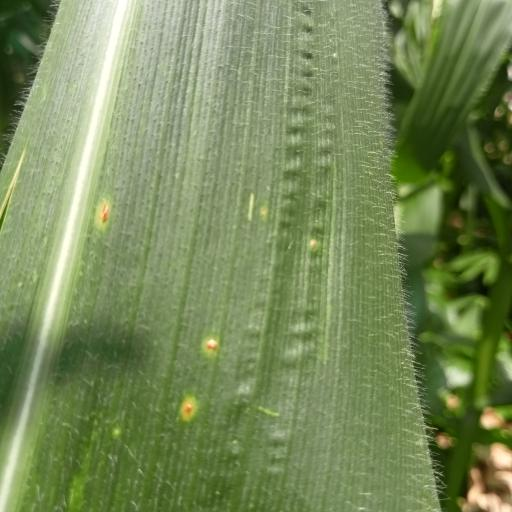Corn_Brown_Spots: (1, 0, 439, 506)
